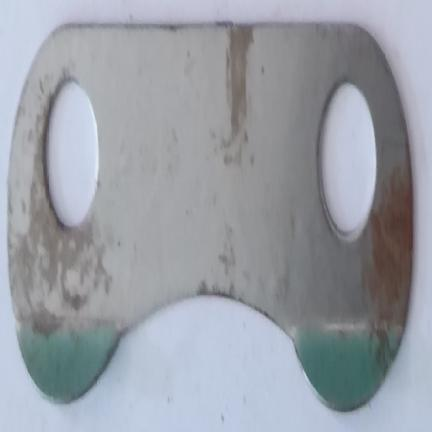besi_tidak_karat: (7, 23, 413, 410)
